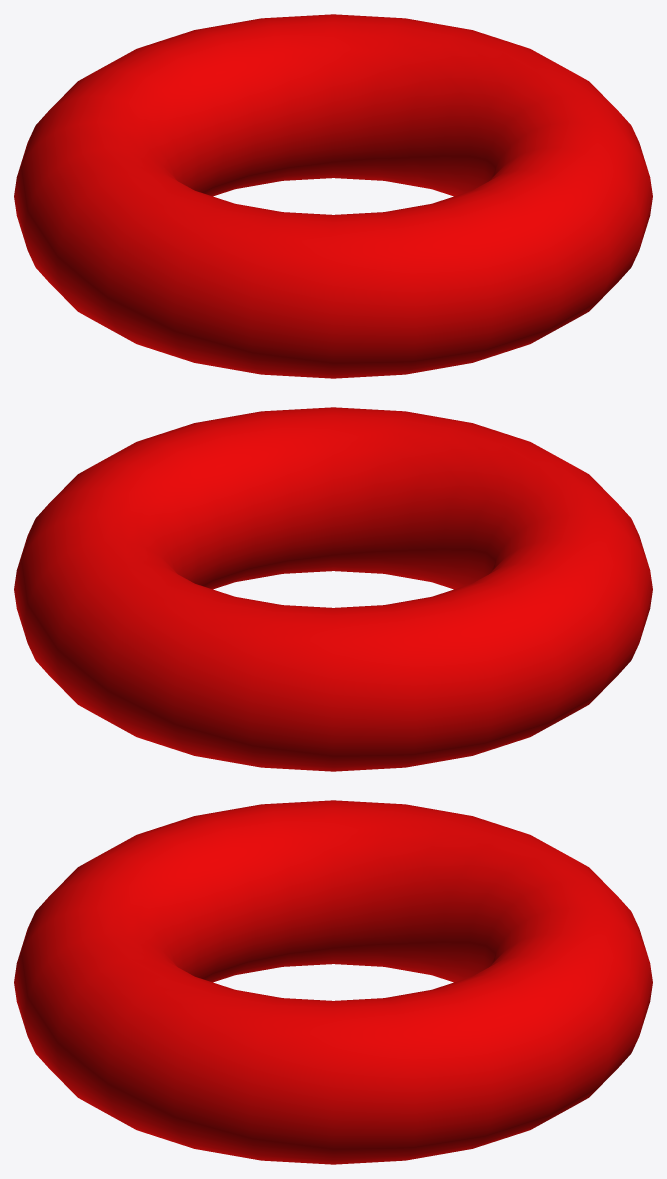
Rendered from Tas.glb.
3 renders of one model, top to bottom at view 1: azimuth 30°, elevation 25°; view 2: azimuth 150°, elevation 25°; view 3: azimuth 270°, elevation 25°, orthographic.
Visible parts, largest first — view 1: Geom3D; view 2: Geom3D; view 3: Geom3D.
Part boxes in pixels (x1,y1,x2,y2): Geom3D: [14, 14, 652, 378]; Geom3D: [14, 407, 652, 771]; Geom3D: [14, 800, 652, 1164].
Bounding box in the file's own units: 1.56 × 0.4 × 1.56.
